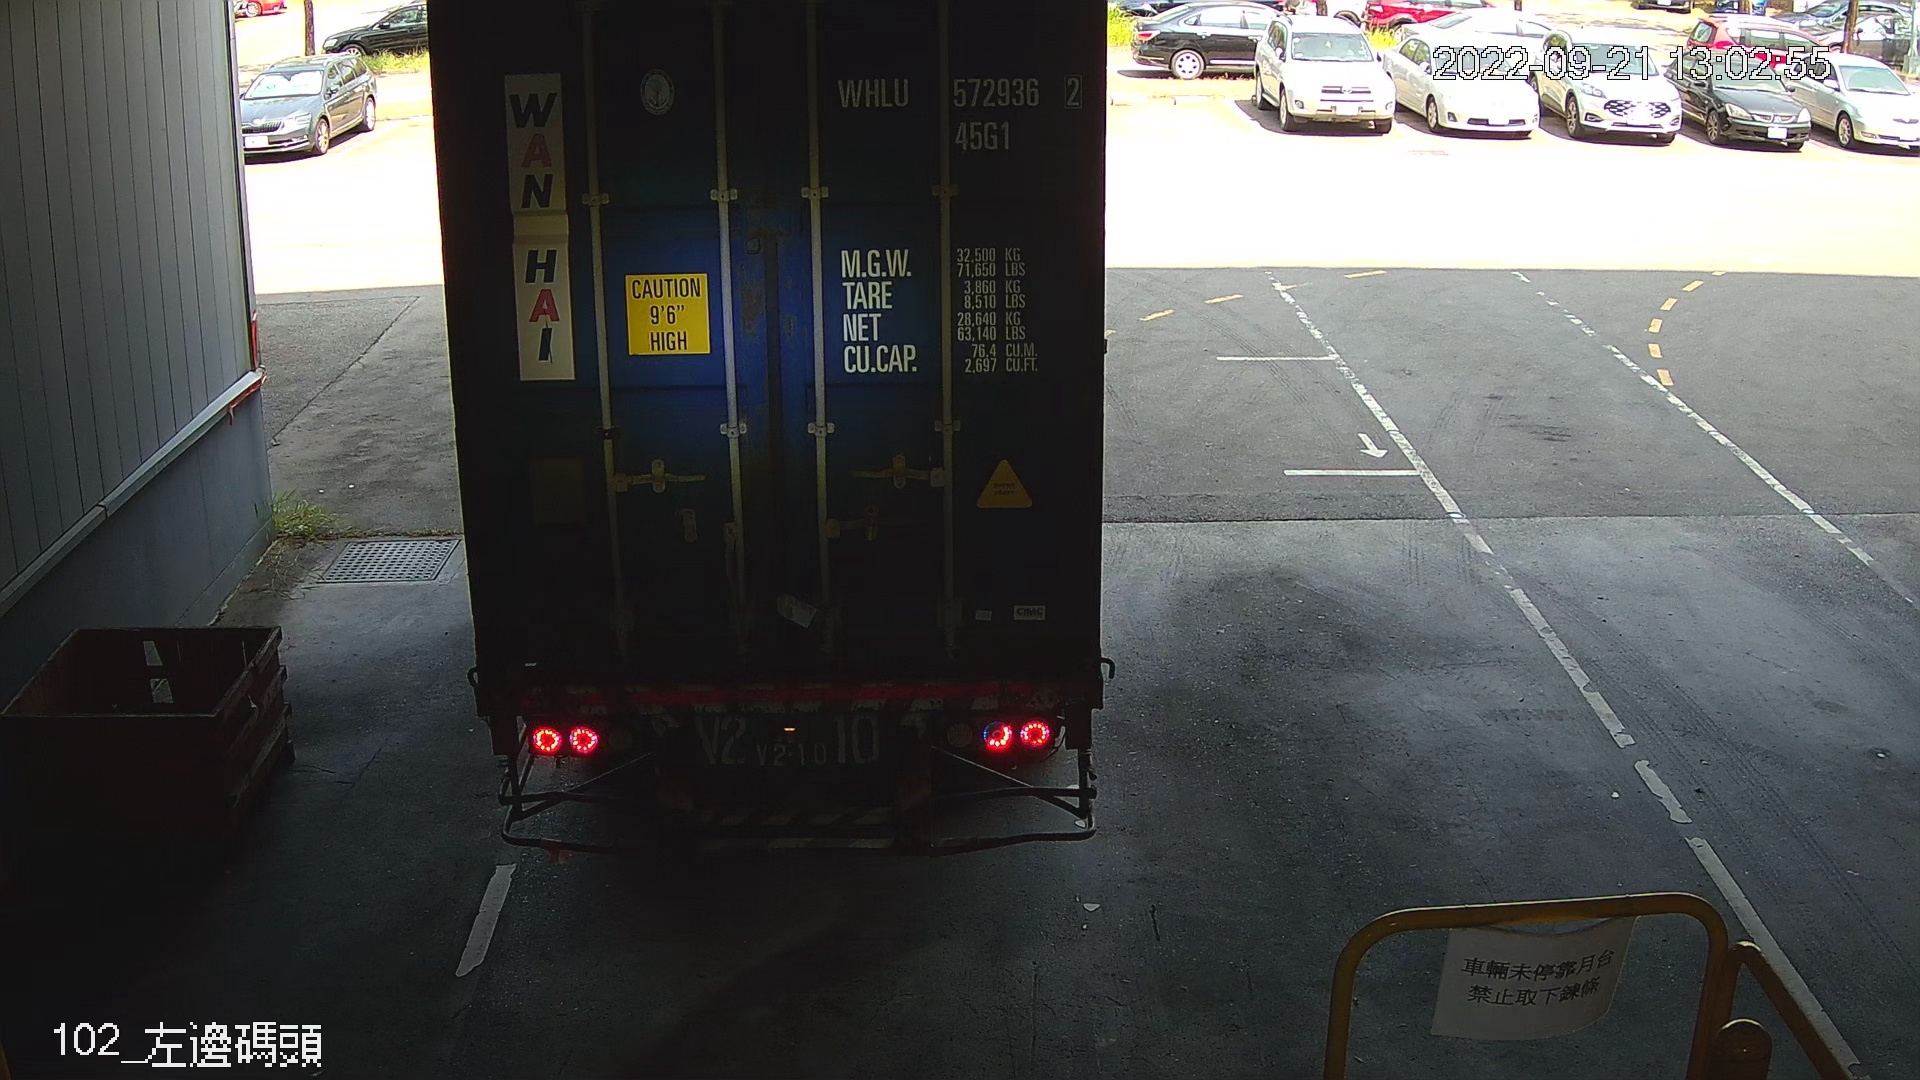container: (825, 65, 1089, 161)
